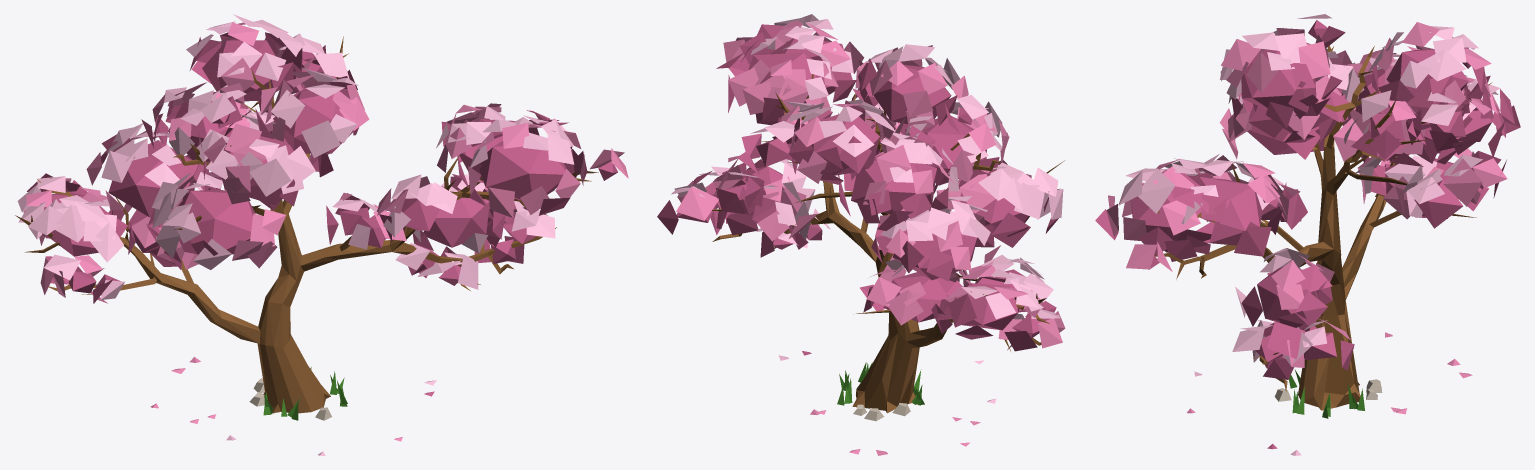
Rendered from cherry_2_bloom.glb.
3 renders of one model, left to right at view 1: azimuth 30°, elevation 25°; view 2: azimuth 150°, elevation 25°; view 3: azimuth 270°, elevation 25°, orthographic. The views are drawn at different scales.
Parts seen in each view (by area): view 1: cherry_2_bloom; view 2: cherry_2_bloom; view 3: cherry_2_bloom.
Part boxes in pixels (left/top/right/bottom): cherry_2_bloom: left=15, top=14, right=628, bottom=455; cherry_2_bloom: left=657, top=14, right=1065, bottom=455; cherry_2_bloom: left=1095, top=14, right=1520, bottom=455.
Size of the model in its own units: 10.1 by 7.08 by 7.51.
